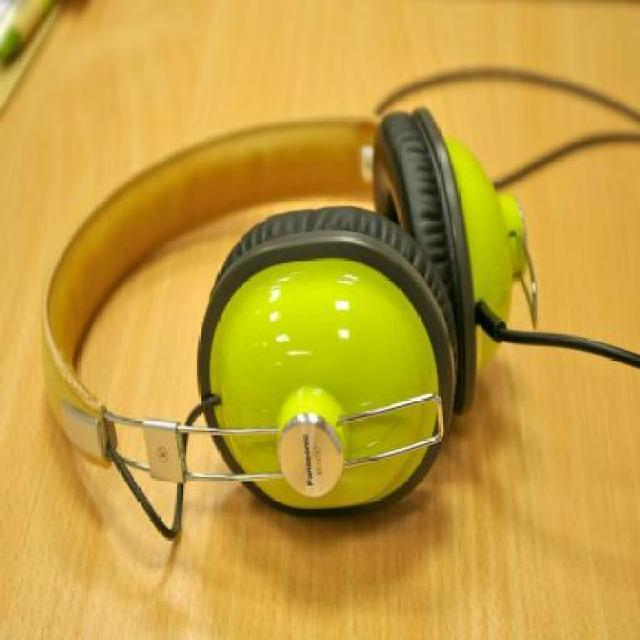earphone: (37, 110, 535, 528)
